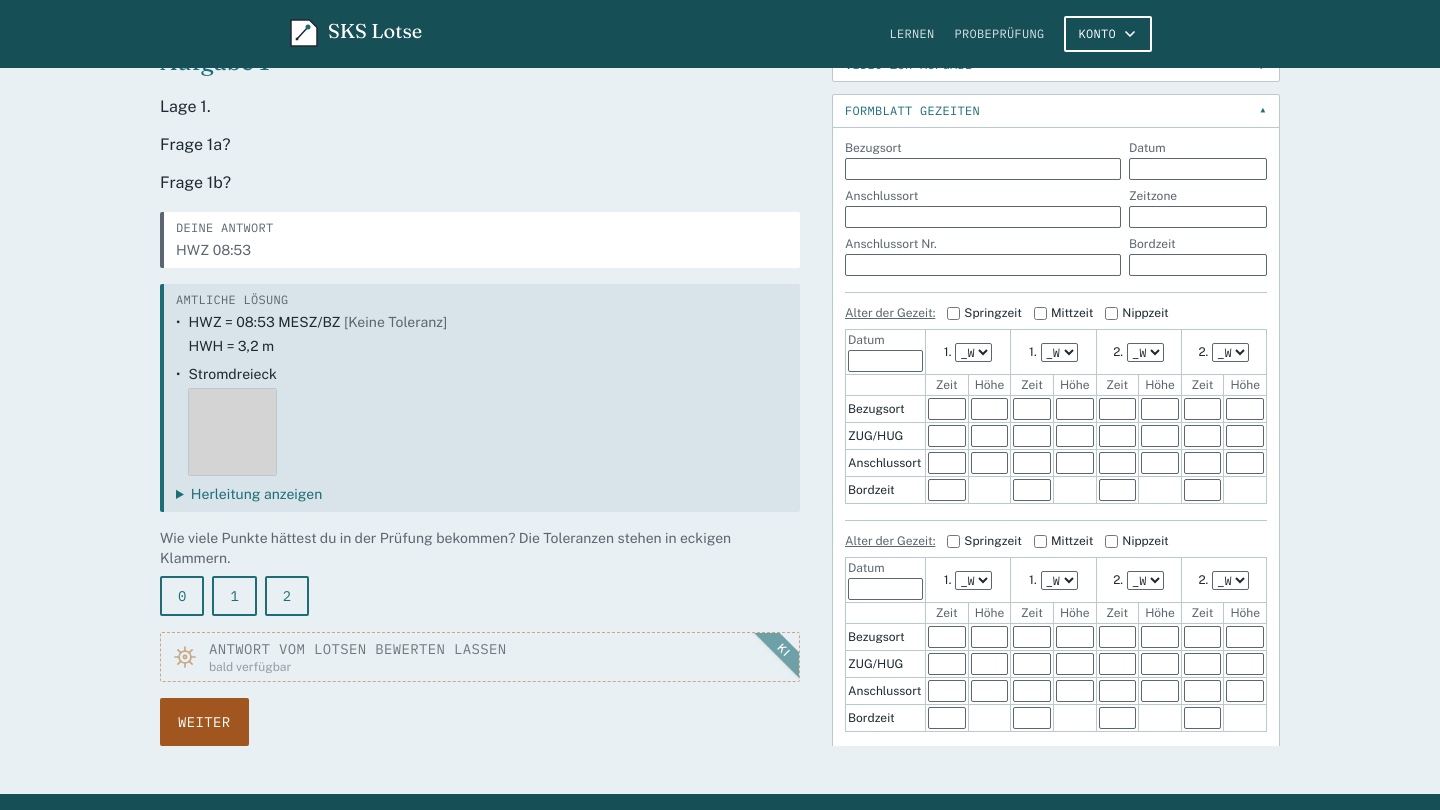
it: ChartAttemptPage › reports failed points
(page scrolled)
Click the radio button labelled "2".
click(287, 596)  # box [265,576,309,616]
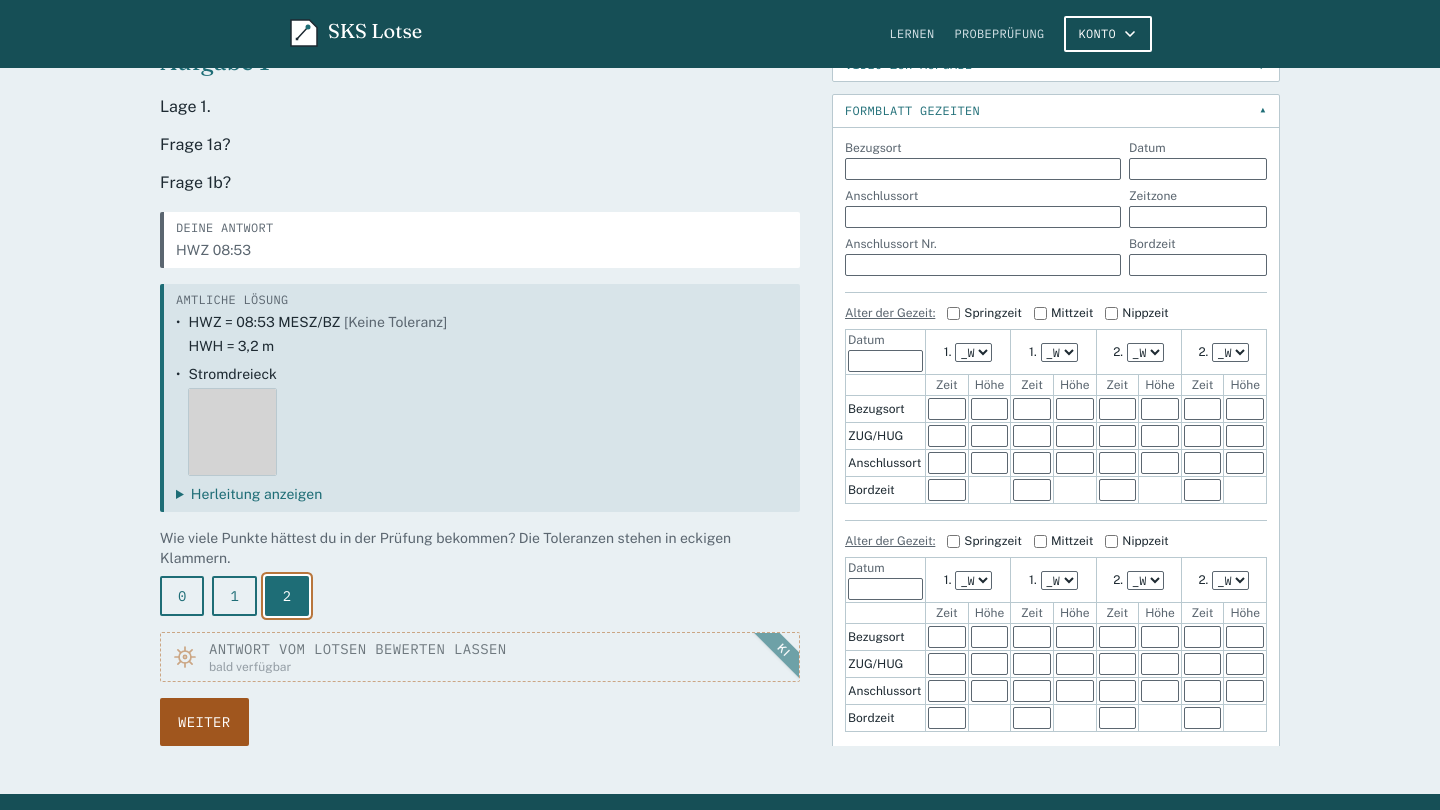
Click the button "Weiter".
click(204, 722)  # box [160,698,248,746]
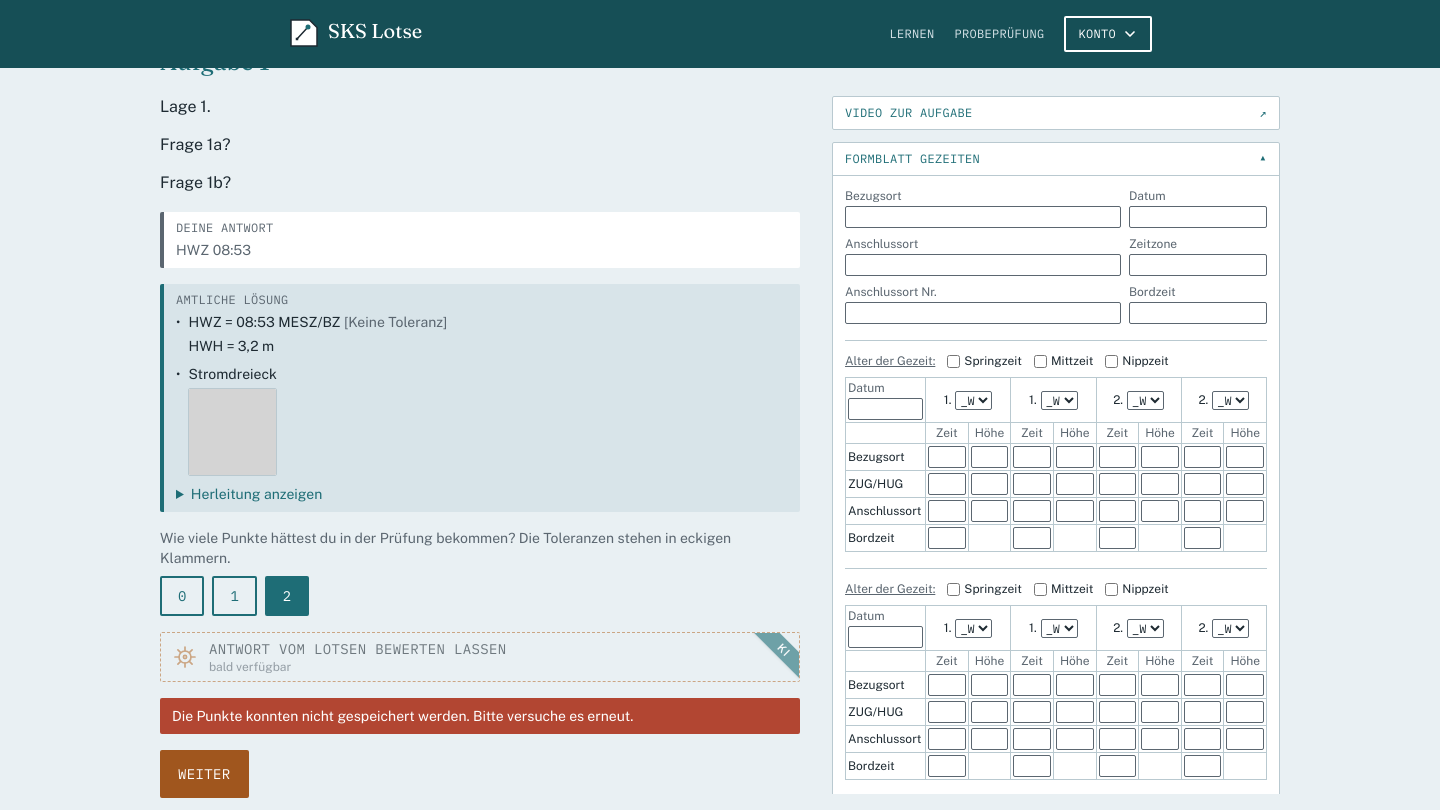
Expected: the message shows "Die Punkte konnten nicht gespeichert werden.", [172,708,633,724]
